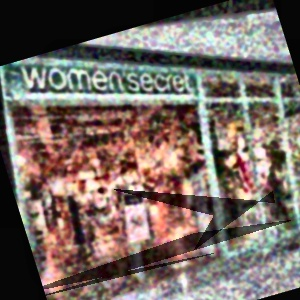women_secret: (173, 10, 204, 22)
